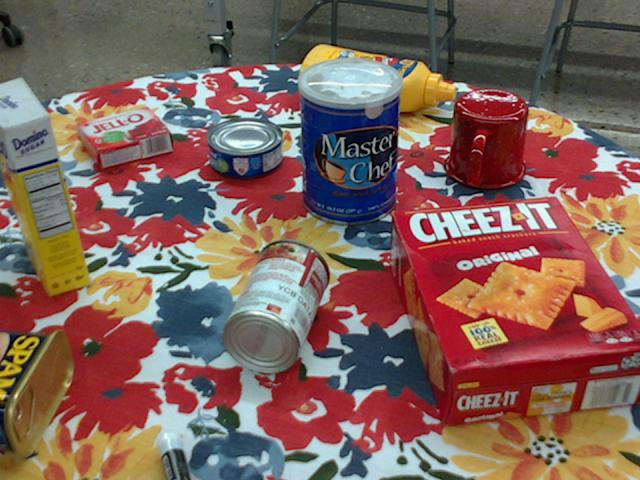cracker_box: (388, 197, 639, 427)
gelatin_box: (76, 109, 171, 171)
large_marker: (156, 431, 190, 479)
master_chef_can: (299, 58, 403, 226)
mug: (442, 90, 528, 190)
mustard_bottle: (297, 44, 454, 111)
potted_meat_can: (0, 328, 73, 454)
sugar_box: (0, 76, 89, 295)
tomato_soup_can: (222, 239, 328, 374)
tuna_fish_can: (205, 118, 281, 179)
